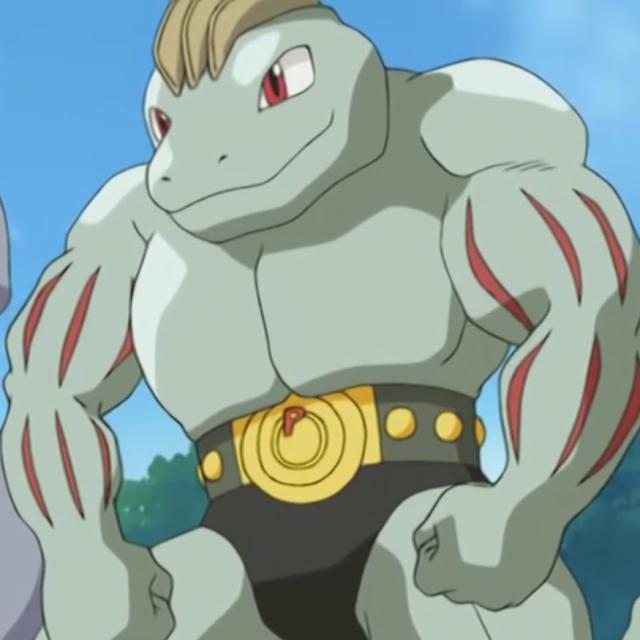Machoke: (117, 0, 578, 640)
